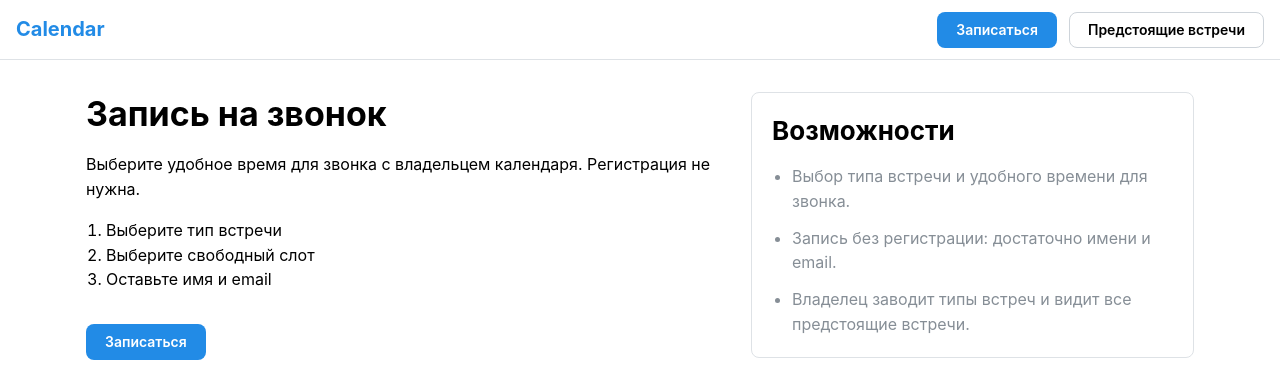
Test: панель сверху › «Предстоящие встречи» ведёт на страницу предстоящих встреч
Click the link "Предстоящие встречи".
click(1166, 30)  # box 1069,12 -> 1264,48
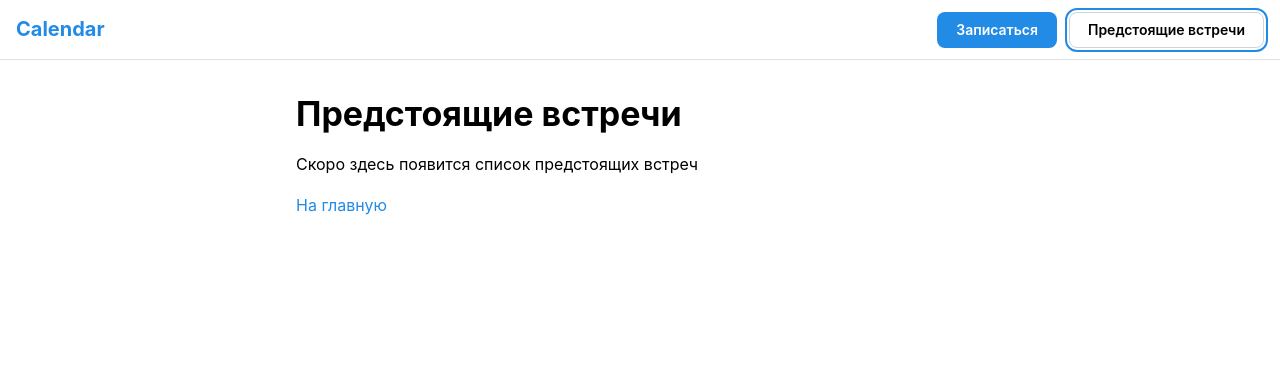
Now the text "Скоро здесь появится список предстоящих встреч" is shown, box 296,154 -> 698,174
